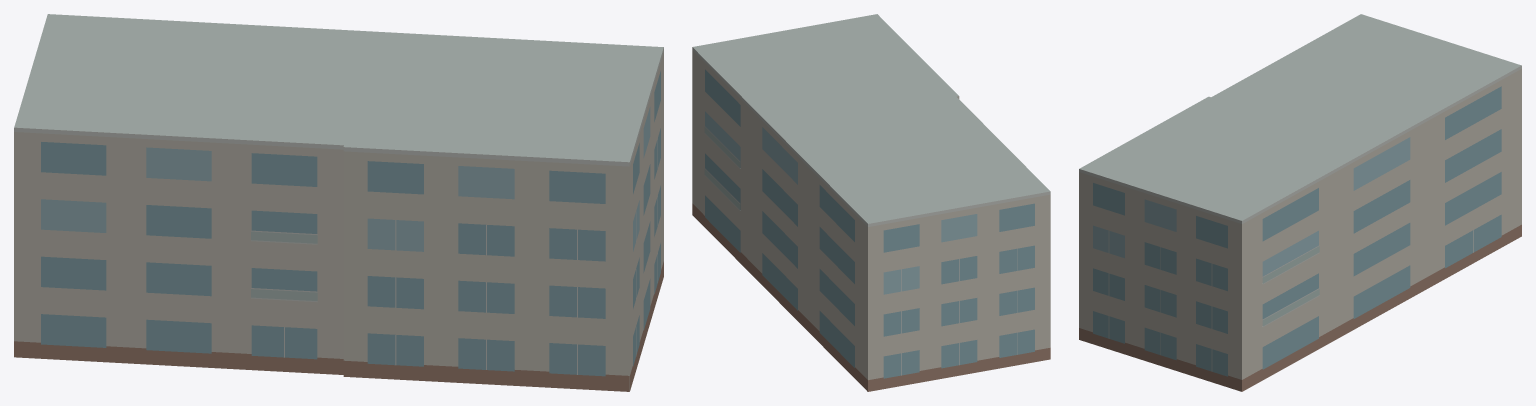
The model's file is survey-upis-32903842.glb.
3 views of the same model, side by side, from view 1: azimuth 30°, elevation 25°; view 2: azimuth 150°, elevation 25°; view 3: azimuth 270°, elevation 25° (orthographic). The views are drawn at different scales.
Parts seen in each view (by area): view 1: survey-upis-32903842.tmp; view 2: survey-upis-32903842.tmp; view 3: survey-upis-32903842.tmp.
Boxes of the visible parts, x1=… form: survey-upis-32903842.tmp: x1=14, y1=14, x2=663, y2=391; survey-upis-32903842.tmp: x1=692, y1=14, x2=1050, y2=391; survey-upis-32903842.tmp: x1=1079, y1=14, x2=1521, y2=391.
Size of the model in its own units: 33.64 by 12.95 by 30.41.
